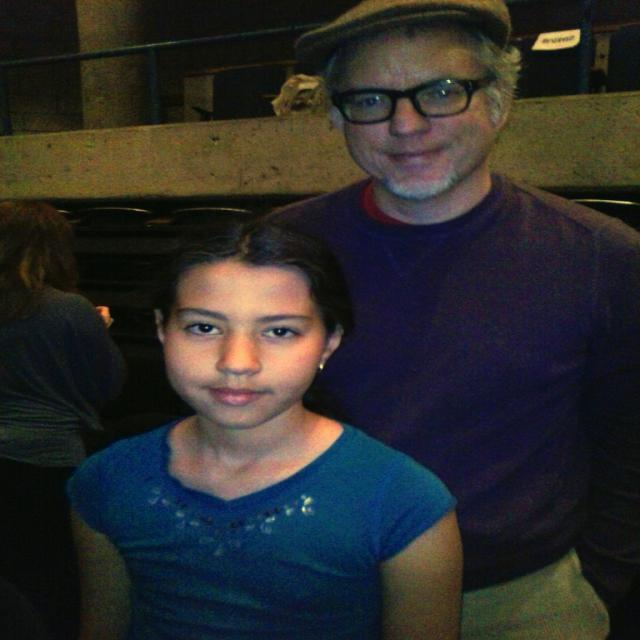closed-mouth: (381, 147, 445, 173), (204, 388, 265, 404)
